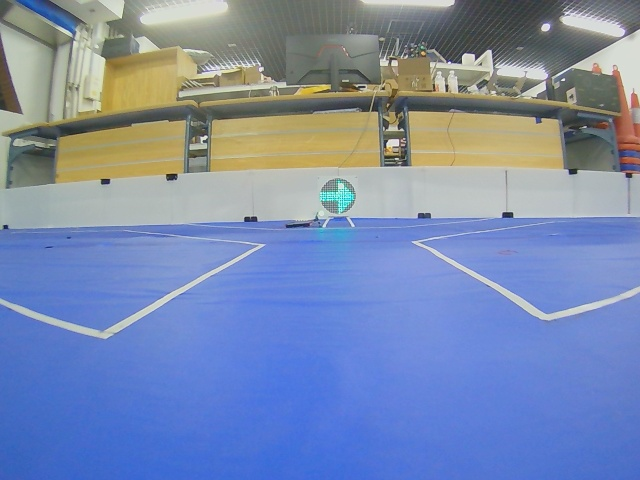right_green: (319, 178, 356, 215)
